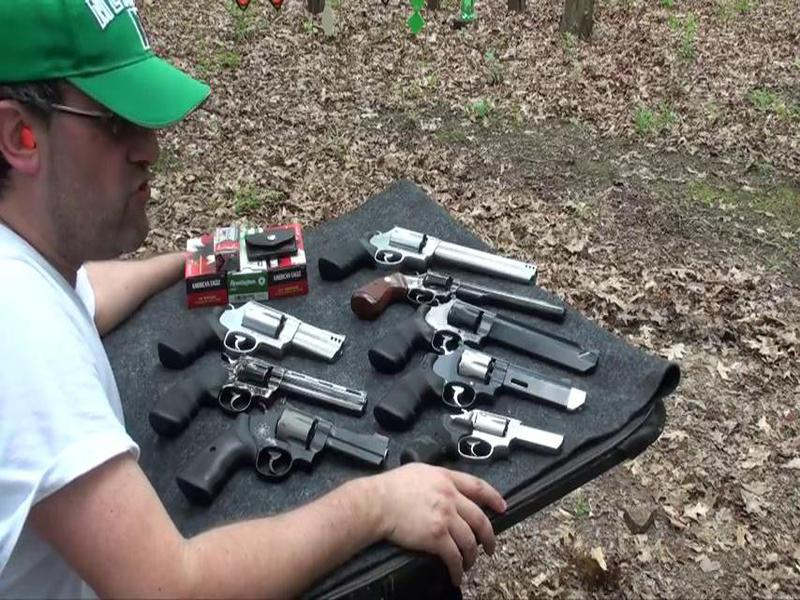Revolver: (156, 291, 358, 368)
